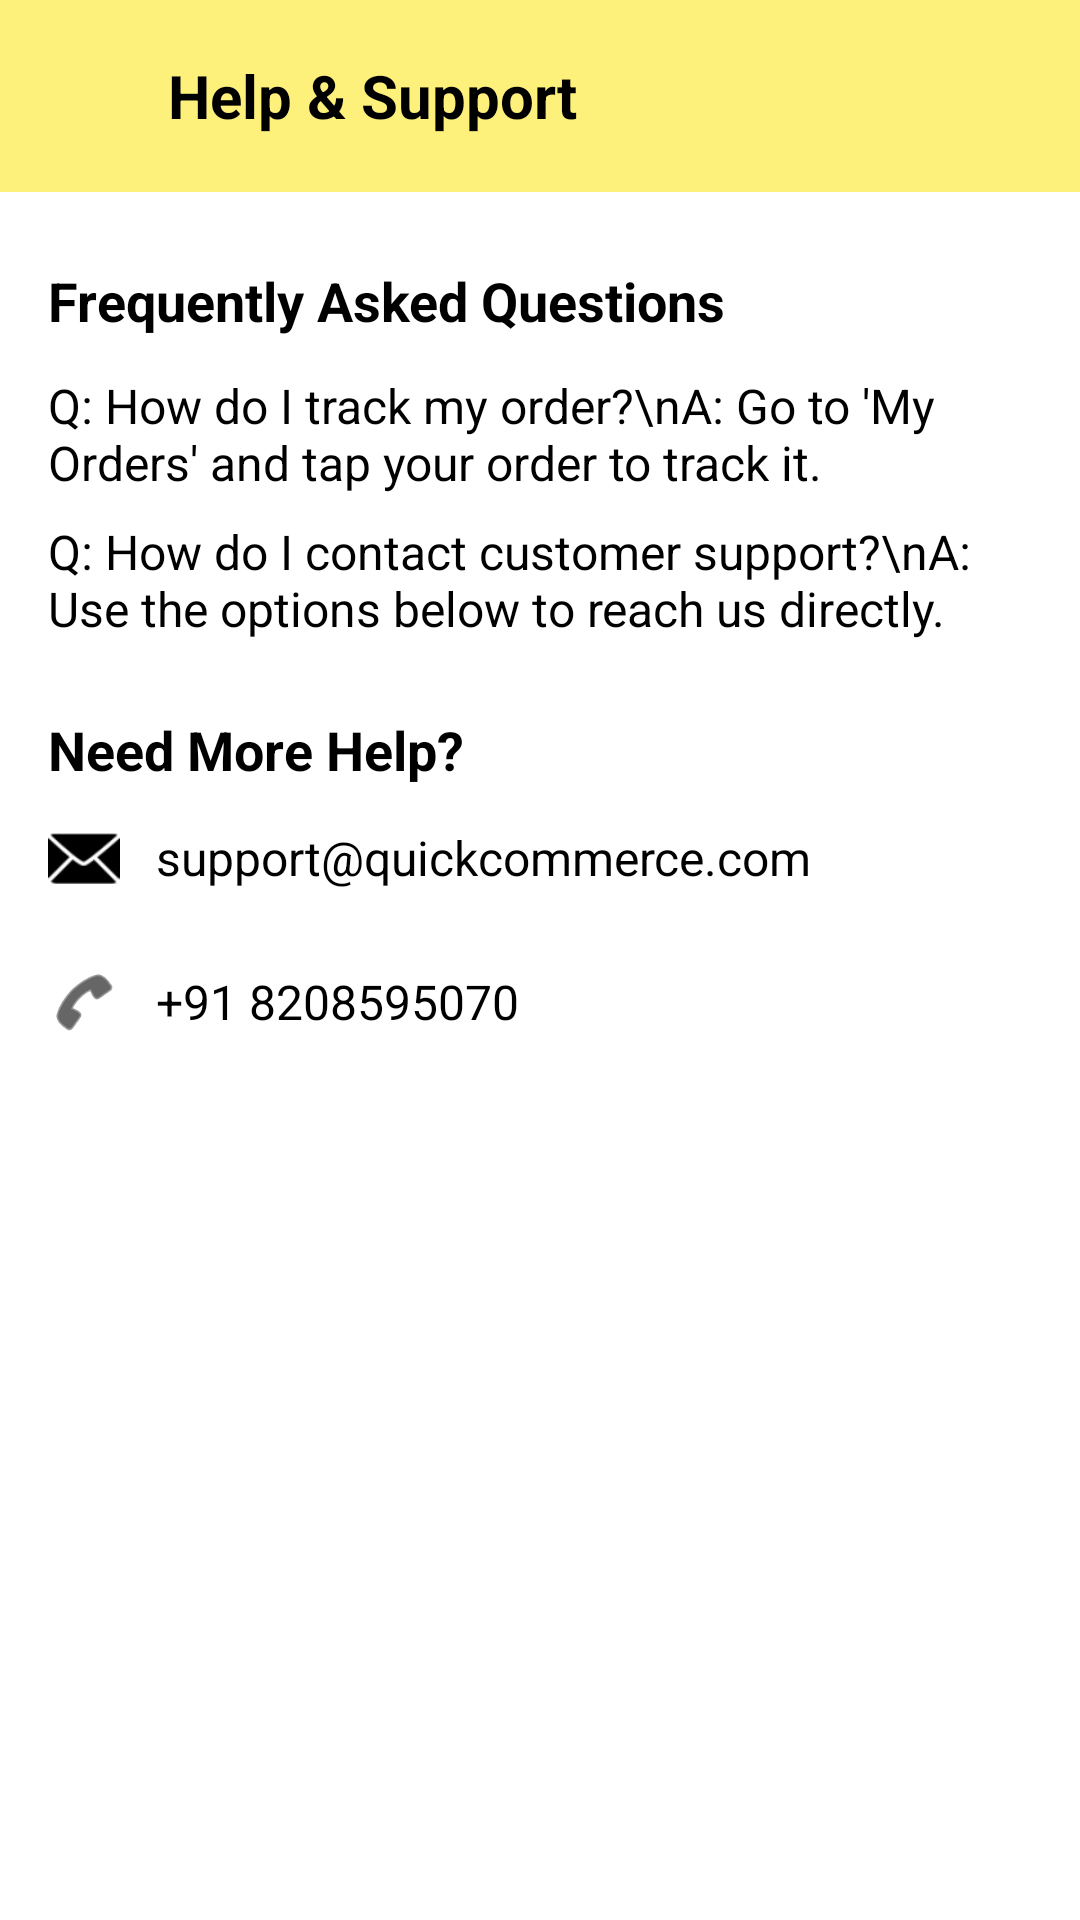

Point at icon controls on the screen. Image size 1080*1920, points as point (x, y).
call: point (84, 1002)
email: point (84, 858)
